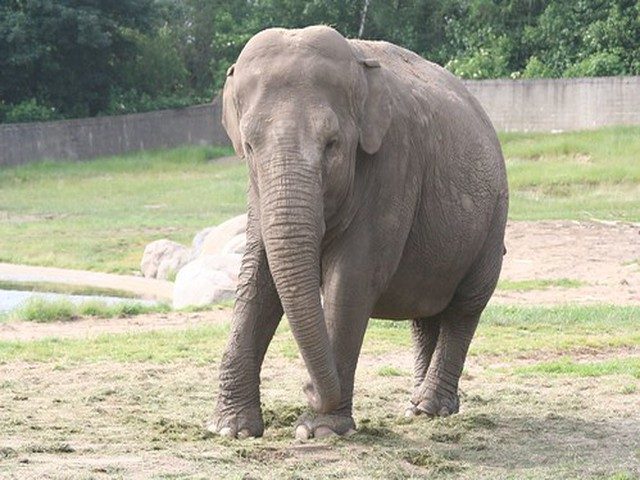Elephant: (211, 16, 527, 437)
